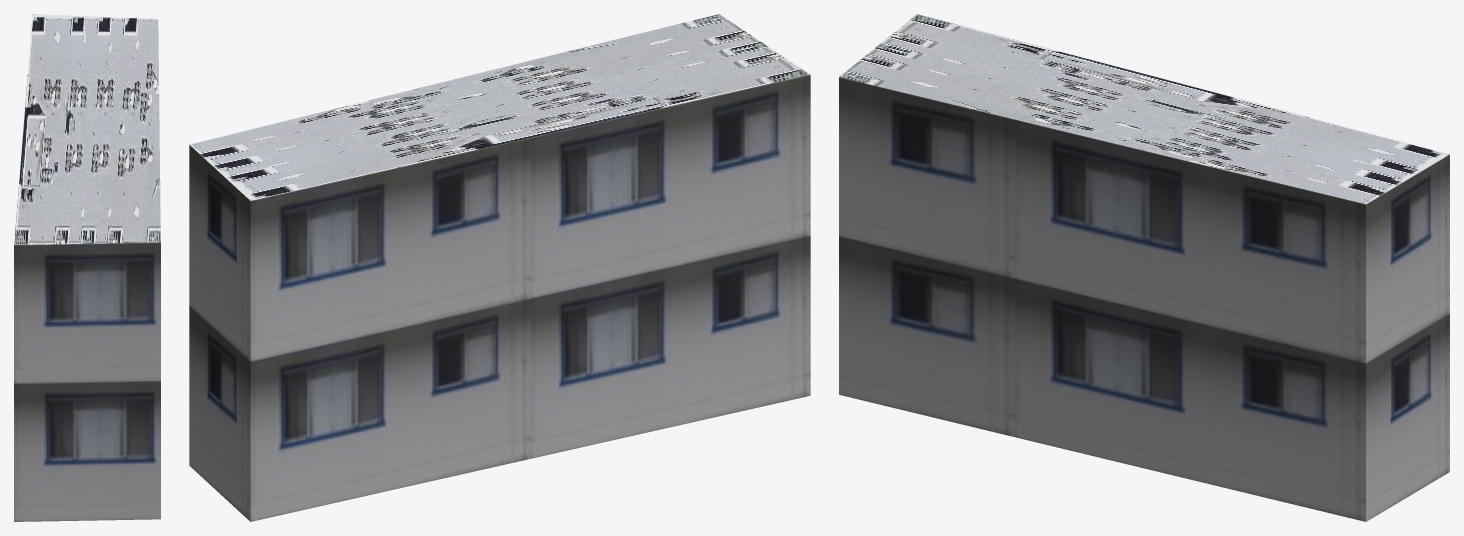
File: ResTex__5333.fbx
3 renders of one model, left to right at view 1: azimuth 30°, elevation 25°; view 2: azimuth 150°, elevation 25°; view 3: azimuth 270°, elevation 25°, orthographic. The views are drawn at different scales.
Visible parts, largest first — view 1: CityEngineMaterial_9_m, CityEngineMaterial_4_m; view 2: CityEngineMaterial_9_m, CityEngineMaterial_4_m; view 3: CityEngineMaterial_9_m, CityEngineMaterial_4_m.
Boxes of the visible parts, x1,y1,x2,y2 form: CityEngineMaterial_9_m: [14, 242, 160, 521]; CityEngineMaterial_4_m: [14, 14, 160, 244]; CityEngineMaterial_9_m: [189, 74, 810, 521]; CityEngineMaterial_4_m: [190, 14, 809, 200]; CityEngineMaterial_9_m: [839, 77, 1449, 521]; CityEngineMaterial_4_m: [839, 14, 1449, 204].
Size of the model in its own units: 7.71 by 6 by 10.46.
2 materials, 2 textured.
